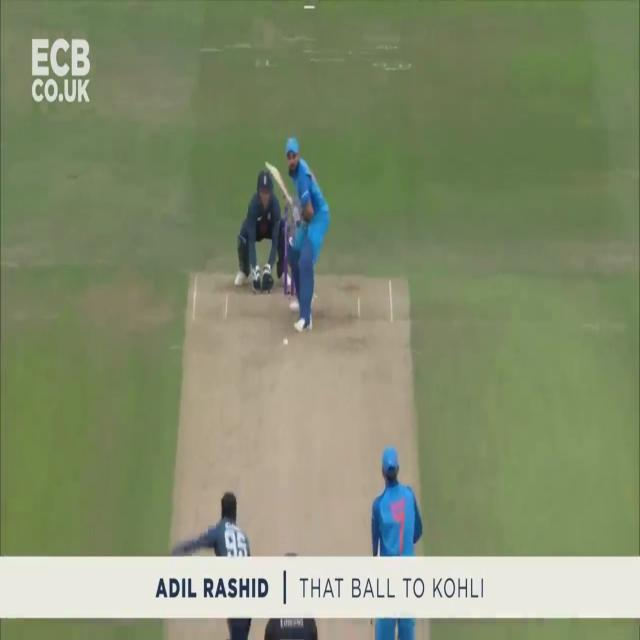cricketBall: (283, 338, 288, 346)
